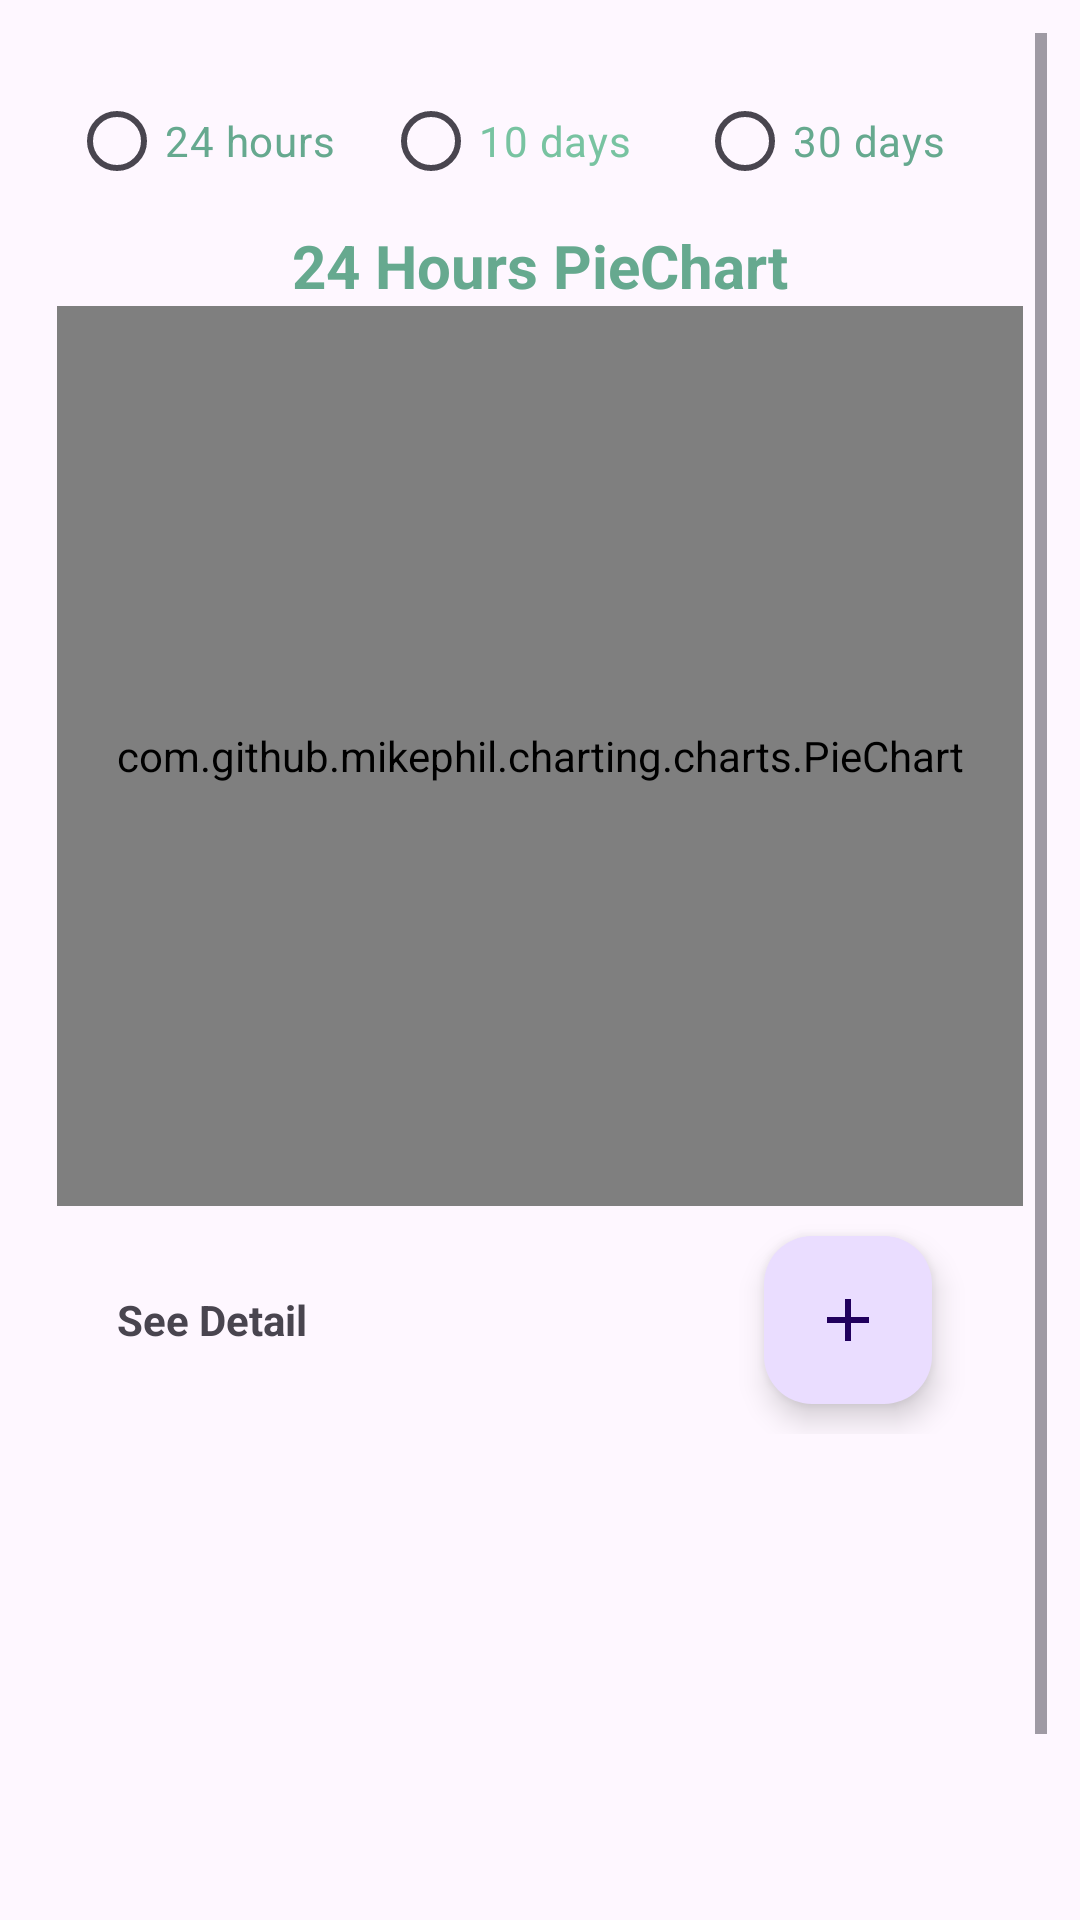

Locate icon controls on the screen. Image size 1080px×1920px, boxes as (x1, y1, x2, y2).
Add habit: (764, 1236, 932, 1404)
